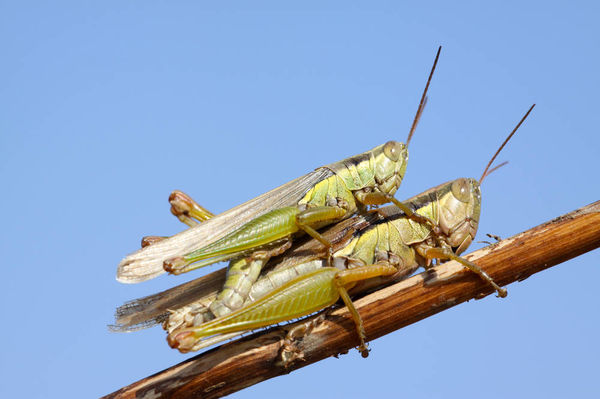huangchong: (175, 174, 488, 365), (130, 121, 408, 270)
